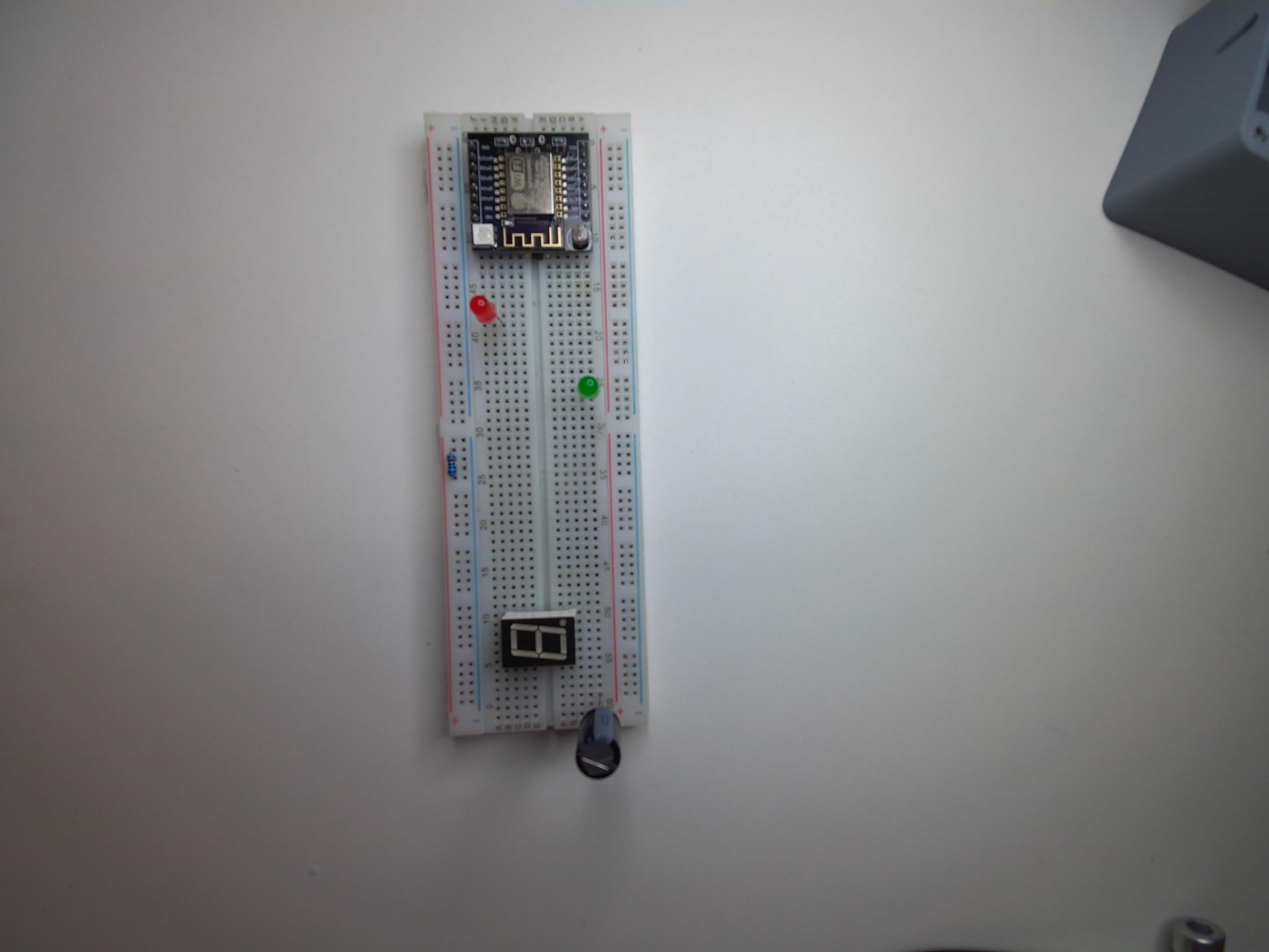base: (421, 113, 649, 752)
capacitor: (573, 704, 628, 786)
digit-board: (494, 606, 579, 670)
esp: (462, 129, 597, 256)
green-led: (572, 371, 602, 402)
red-led: (466, 290, 501, 326)
resistor-small: (443, 448, 459, 479)
